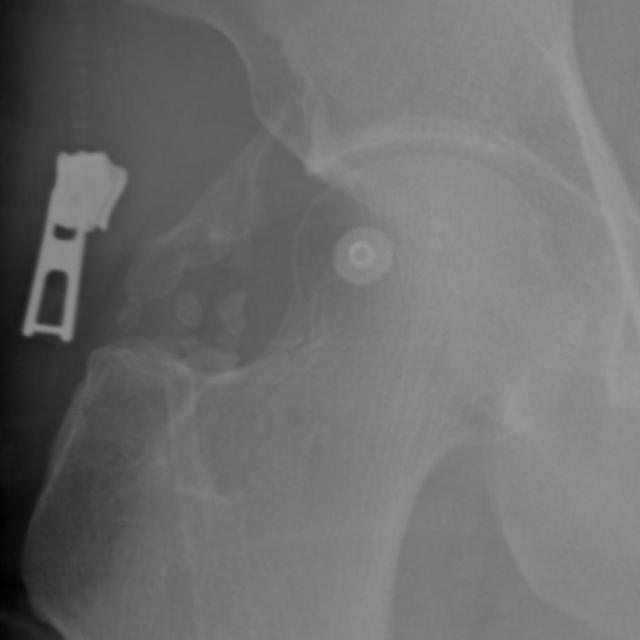Fitted_femural_head: (297, 159, 432, 297)
